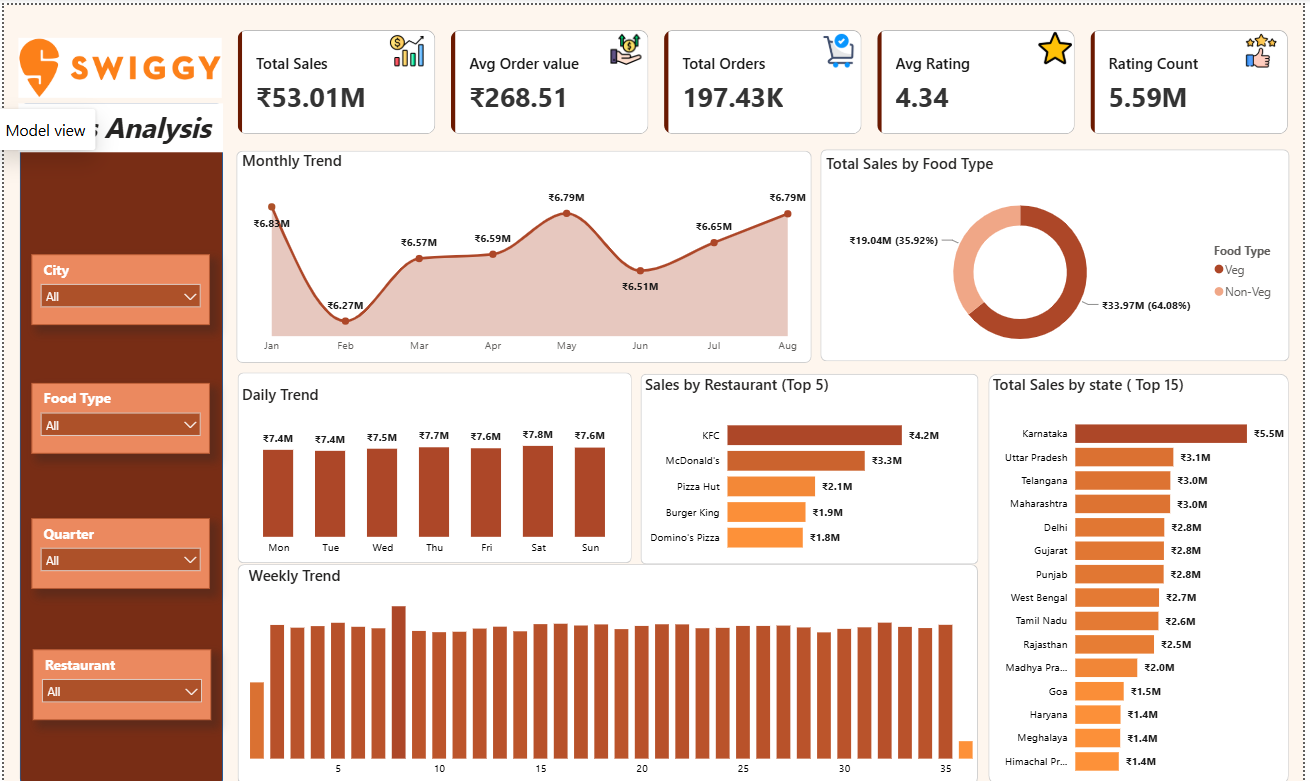

The dashboard page shown, as its layout file describes it:
{"tool":"powerbi","page":{"name":"Page 1","canvas":[1500,900],"ordinal":0},"visuals":[{"type":"shape","box":[18.2,113.6,234.8,786.4],"z":0},{"type":"cardVisual","fields":{"Data":["fact_orders.Total Sales","fact_orders.Avergae Order value","fact_orders.Total Orders","Avg(fact_orders.rating)","Sum(fact_orders.rating_count)"]},"box":[253,12.1,1247,154.5],"z":1000},{"type":"image","box":[433.3,33.3,63.4,39.2],"z":2000},{"type":"image","box":[686.4,33.3,63,36],"z":3000},{"type":"image","box":[931.8,33.3,63,39],"z":4000},{"type":"image","box":[1181.8,30.3,63.4,39.2],"z":5000},{"type":"image","box":[1419.7,33.3,63.4,39],"z":6000},{"type":"image","box":[16.7,31.8,234.8,81.8],"z":7000},{"type":"shape","box":[268.5,167.5,664,245],"z":8000},{"type":"areaChart","title":"Monthly Trend","fields":{"Category":["dim_date.Month"],"Y":["fact_orders.Total Sales"]},"box":[269.2,166.2,673.8,244.6],"z":9000},{"type":"shape","box":[943.1,166.2,541.5,244.6],"z":10000},{"type":"donutChart","fields":{"Category":["dim_dish.Food Type"],"Y":["fact_orders.Total Sales"]},"box":[944.6,169.2,541.5,243.1],"z":11000},{"type":"shape","box":[269.2,424.6,455,220],"z":12000},{"type":"columnChart","title":"Daily Trend","fields":{"Category":["dim_date.Day"],"Y":["fact_orders.Total Sales"]},"box":[269.7,436.4,454.5,207.6],"z":13000},{"type":"shape","box":[735.4,426.2,390,220],"z":14000},{"type":"barChart","title":"Sales by Restaurant (Top 5)","fields":{"Category":["dim_restaurant.restaurant_name"],"Y":["fact_orders.Total Sales"]},"box":[734.8,425.8,389.4,218.2],"z":15000},{"type":"shape","box":[1136.4,425.8,347,474.2],"z":16000},{"type":"barChart","title":"Total Sales by state ( Top 15)","fields":{"Category":["dim_location.state"],"Y":["fact_orders.Total Sales"]},"box":[1136.4,425.8,347,474.2],"z":17000},{"type":"shape","box":[269.7,645.5,854.5,254.5],"z":18000},{"type":"columnChart","title":"Weekly Trend","fields":{"Category":["dim_date.Week number"],"Y":["fact_orders.Total Sales"]},"box":[277.3,645.5,847,254.5],"z":19000},{"type":"slicer","title":"city","fields":{"Values":["dim_location.city"]},"box":[31.8,287.9,206.1,81.8],"z":20000},{"type":"slicer","title":"city","fields":{"Values":["dim_dish.Food Type"]},"box":[31.8,436.4,206.1,81.8],"z":21000},{"type":"slicer","title":"city","fields":{"Values":["dim_date.Quarter"]},"box":[31.8,592.4,206.1,81.8],"z":22000},{"type":"slicer","title":"city","fields":{"Values":["dim_restaurant.restaurant_name"]},"box":[33.3,743.9,206.1,81.8],"z":23000},{"type":"textbox","box":[16.7,113.6,236.4,56.1],"z":23001}]}

Visuals, with their boxes on the page's 1500x900 design canvas (x1, y1, x2, y2). These are canvas units, not pixel positions in the 1310x781 screenshot, which may show the page scaled, cropped or inside an application window:
shape: (18,114,253,900)
cardVisual - fact_orders.Total Sales x fact_orders.Avergae Order value: (253,12,1500,167)
image: (433,33,497,72)
image: (686,33,749,69)
image: (932,33,995,72)
image: (1182,30,1245,70)
image: (1420,33,1483,72)
image: (17,32,252,114)
shape: (268,168,932,412)
"Monthly Trend" areaChart: (269,166,943,411)
shape: (943,166,1485,411)
donutChart - dim_dish.Food Type x fact_orders.Total Sales: (945,169,1486,412)
shape: (269,425,724,645)
"Daily Trend" columnChart: (270,436,724,644)
shape: (735,426,1125,646)
"Sales by Restaurant (Top 5)" barChart: (735,426,1124,644)
shape: (1136,426,1483,900)
"Total Sales by state ( Top 15)" barChart: (1136,426,1483,900)
shape: (270,646,1124,900)
"Weekly Trend" columnChart: (277,646,1124,900)
"city" slicer: (32,288,238,370)
"city" slicer: (32,436,238,518)
"city" slicer: (32,592,238,674)
"city" slicer: (33,744,239,826)
textbox: (17,114,253,170)
